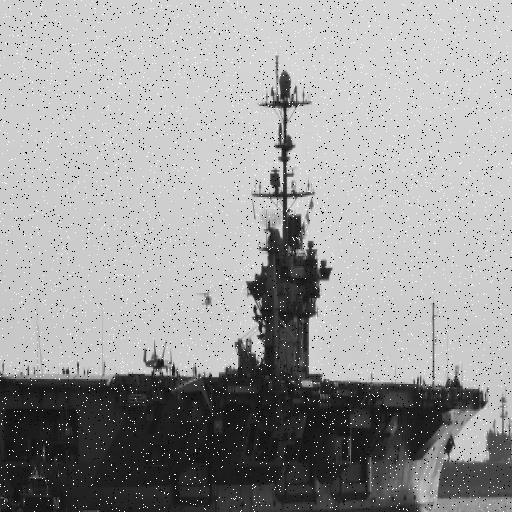Portanaves: (1, 41, 494, 512)
